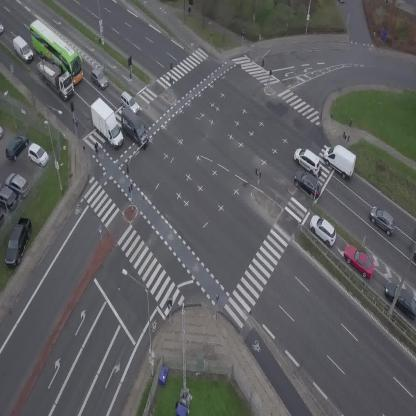bicycle: (184, 1, 193, 16), (92, 140, 101, 154)
bus: (20, 16, 92, 85)
car: (338, 239, 380, 283), (288, 166, 328, 204), (304, 211, 342, 248), (365, 203, 402, 238), (290, 144, 325, 176), (115, 90, 143, 117), (86, 66, 111, 91), (0, 23, 4, 34), (338, 0, 345, 3)
lorry: (27, 48, 82, 102), (85, 94, 126, 153), (112, 105, 156, 149), (318, 139, 363, 182), (8, 34, 38, 64), (413, 246, 416, 263)
